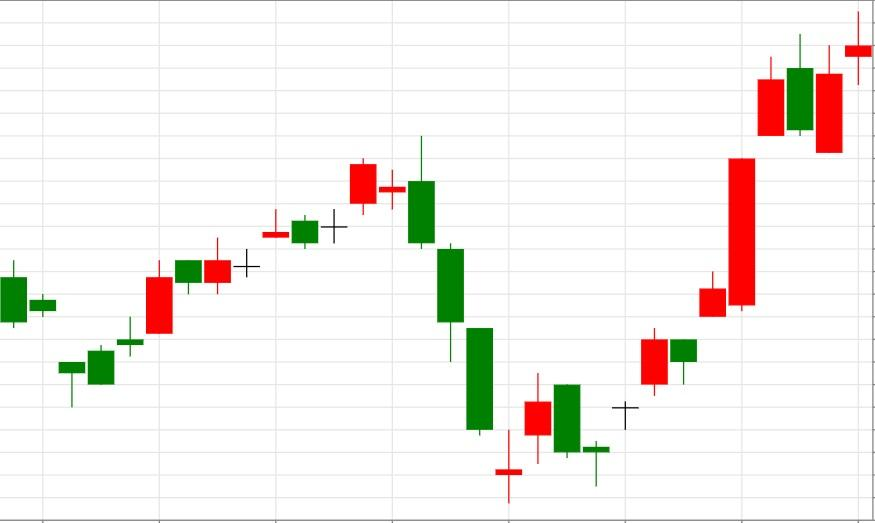bearish_engulfing_fall: (58, 136, 436, 408)
three_black_crows_fall: (58, 135, 494, 436)
